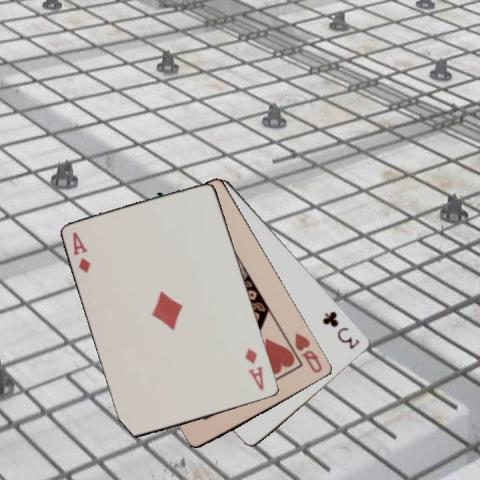3c: (320, 308, 361, 351)
Ad: (242, 344, 266, 392), (70, 229, 93, 275)
Qh: (292, 330, 324, 375)
